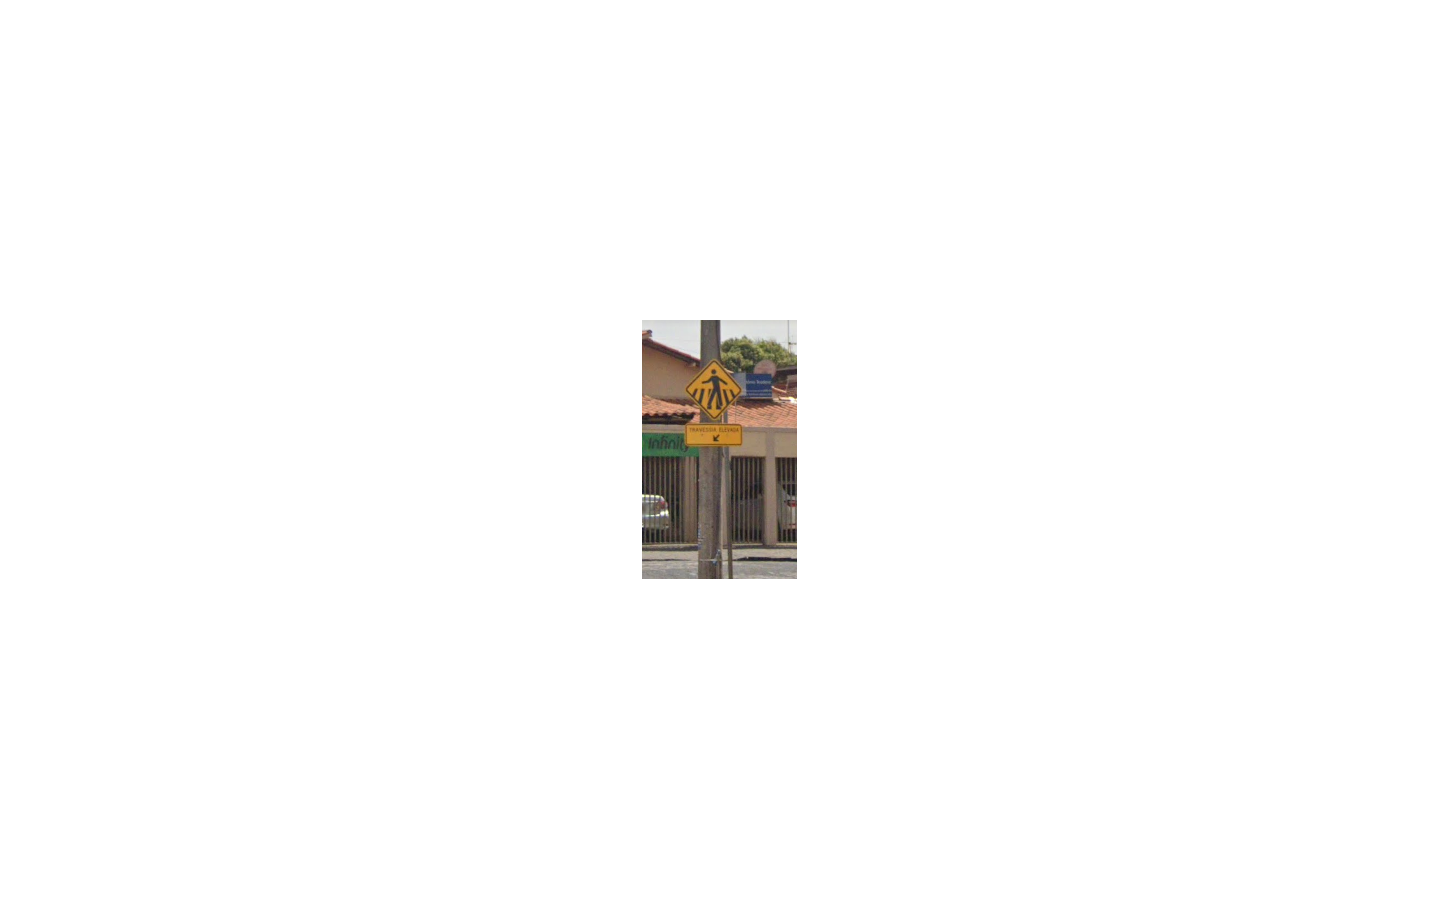telev: (684, 359, 743, 446)
